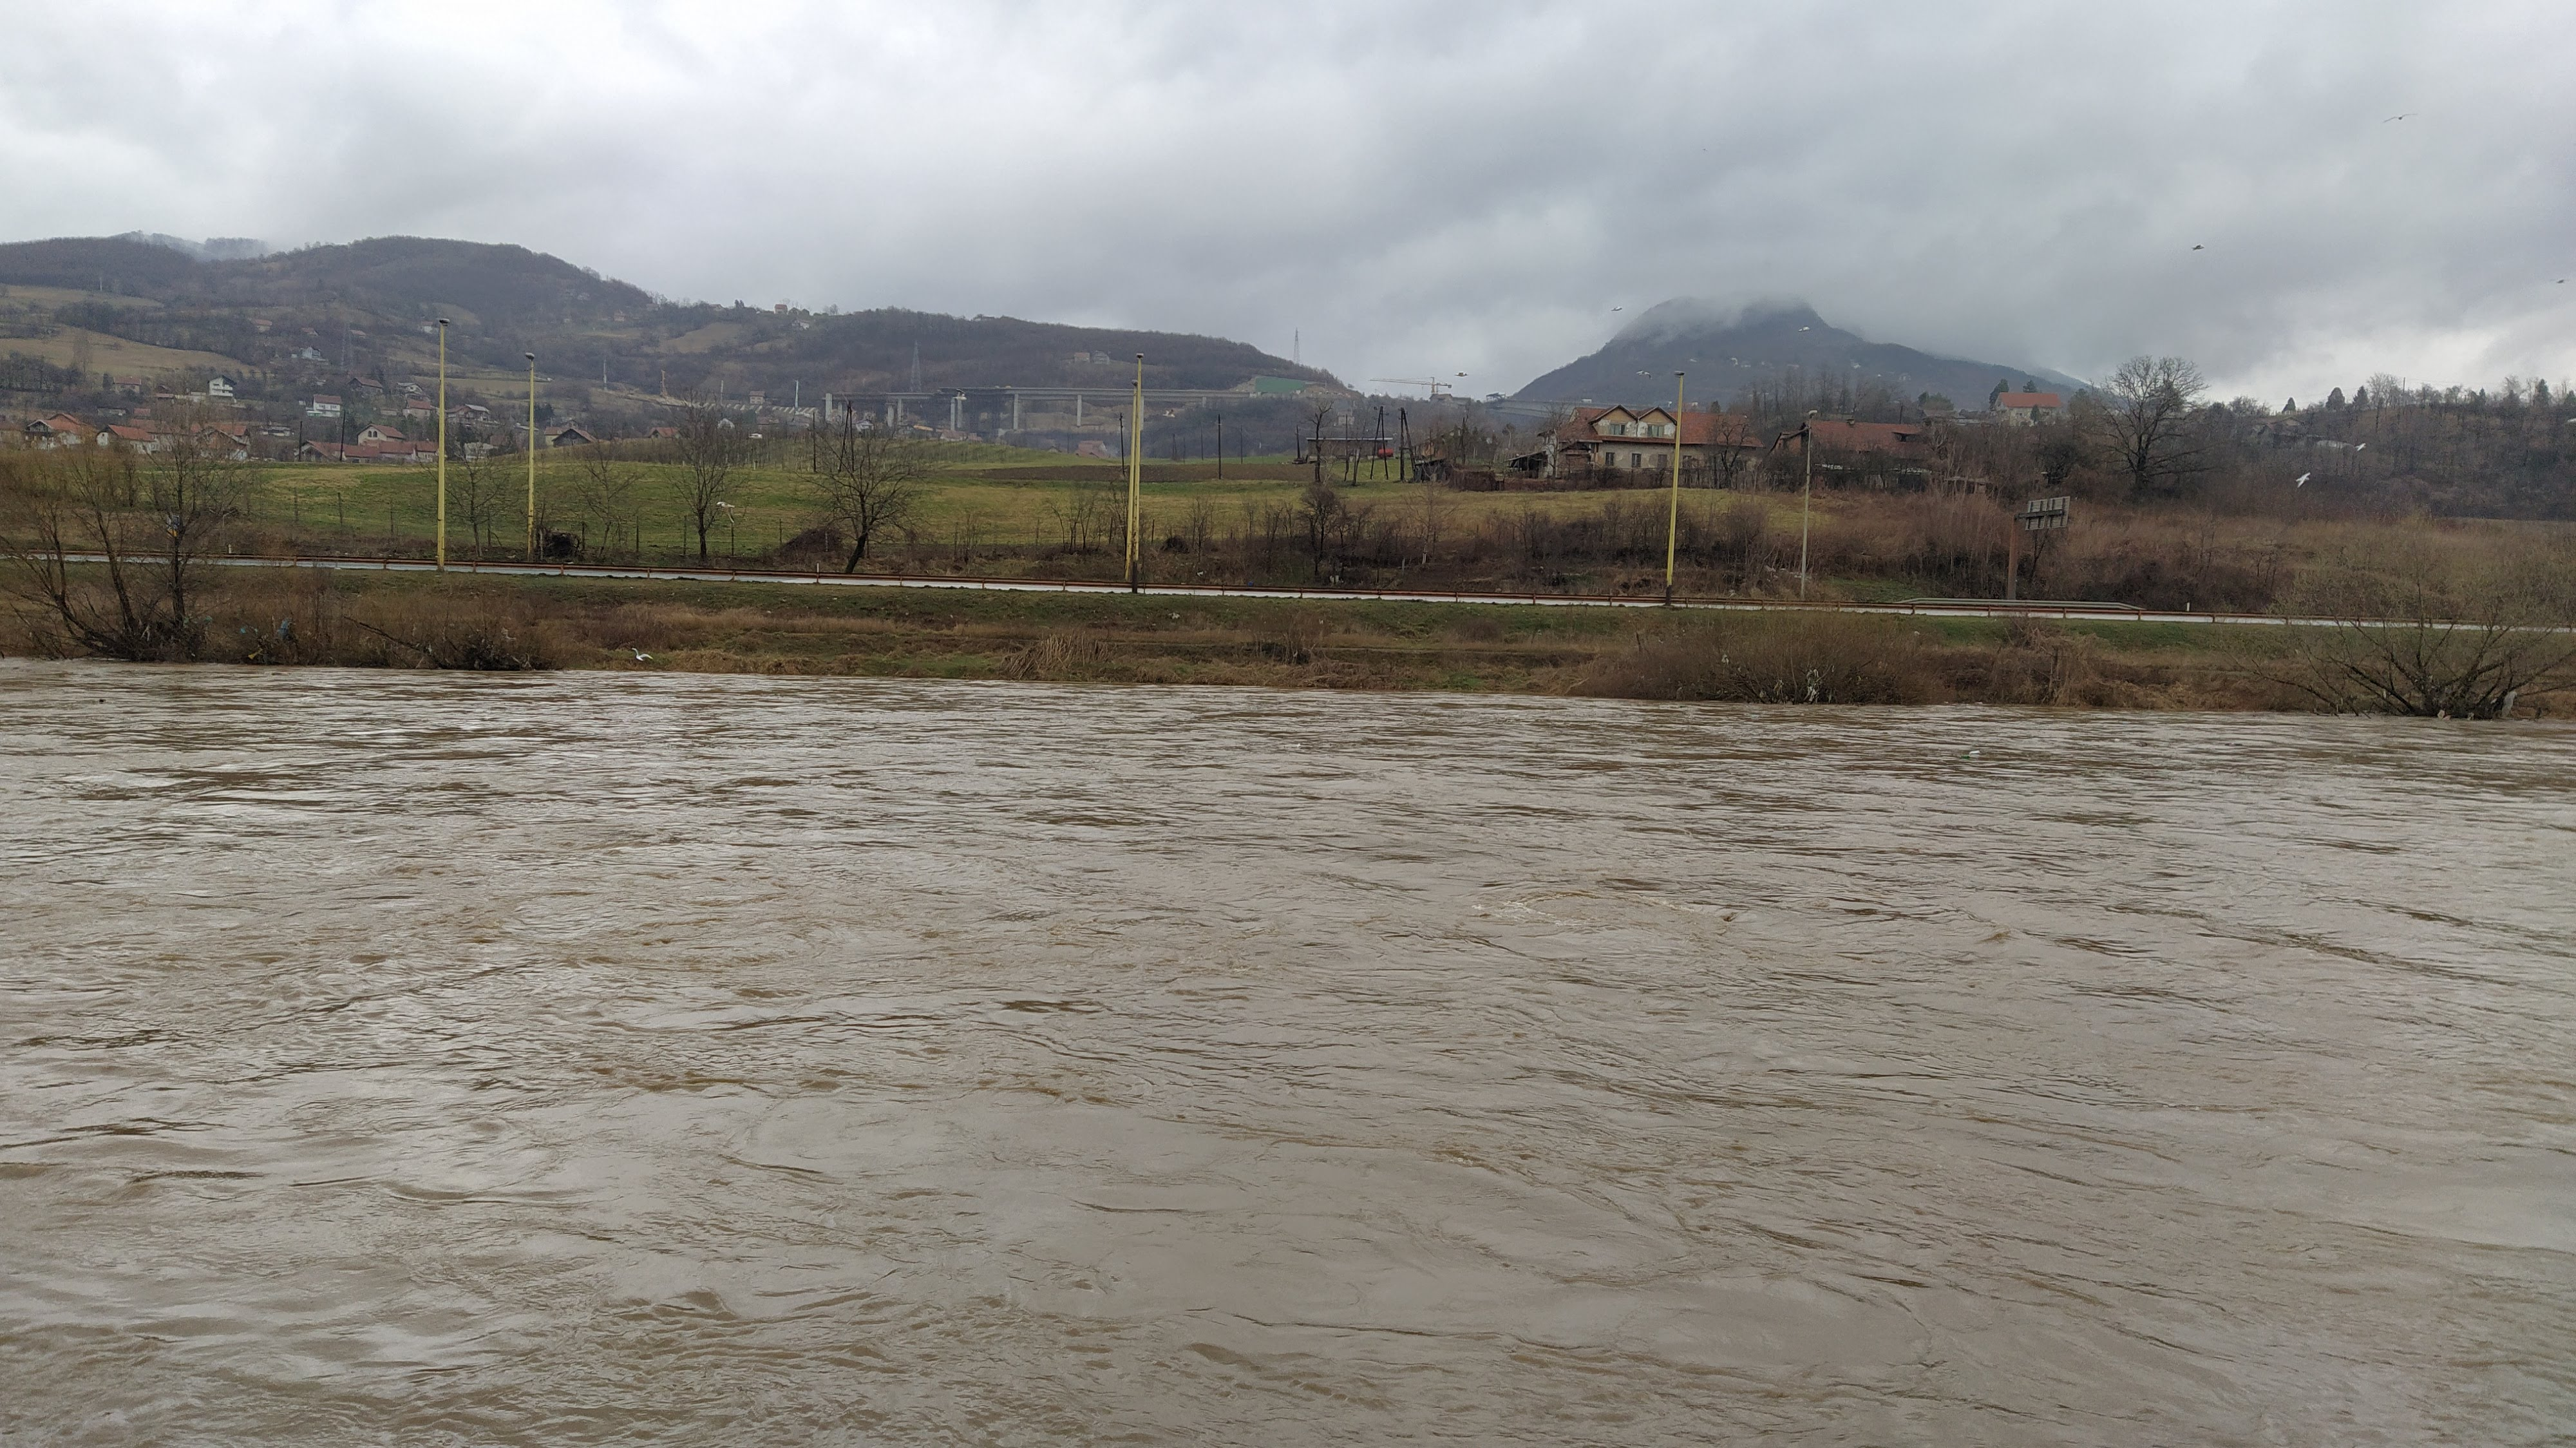Plastic Bottle: (1959, 754, 1967, 759), (1971, 751, 1980, 752), (99, 697, 103, 701)
